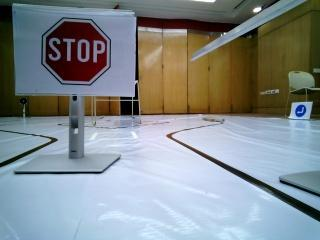stop: (31, 8, 123, 84)
